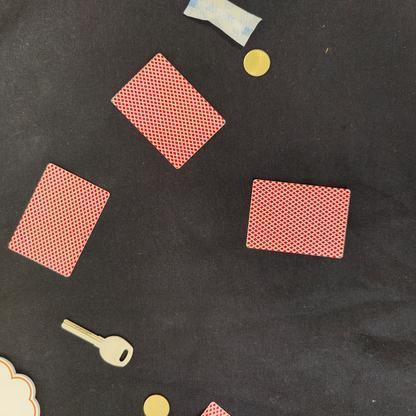card: (101, 48, 238, 174), (4, 153, 119, 287), (234, 170, 363, 269)
